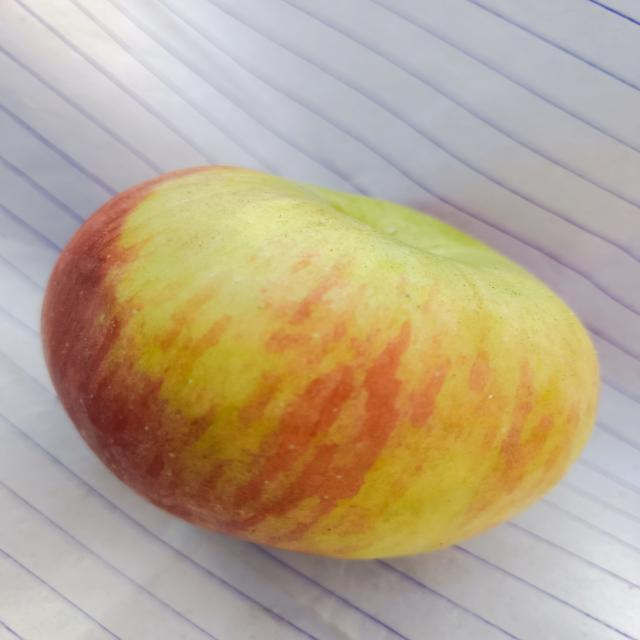Fresh Apple: (34, 172, 584, 562)
